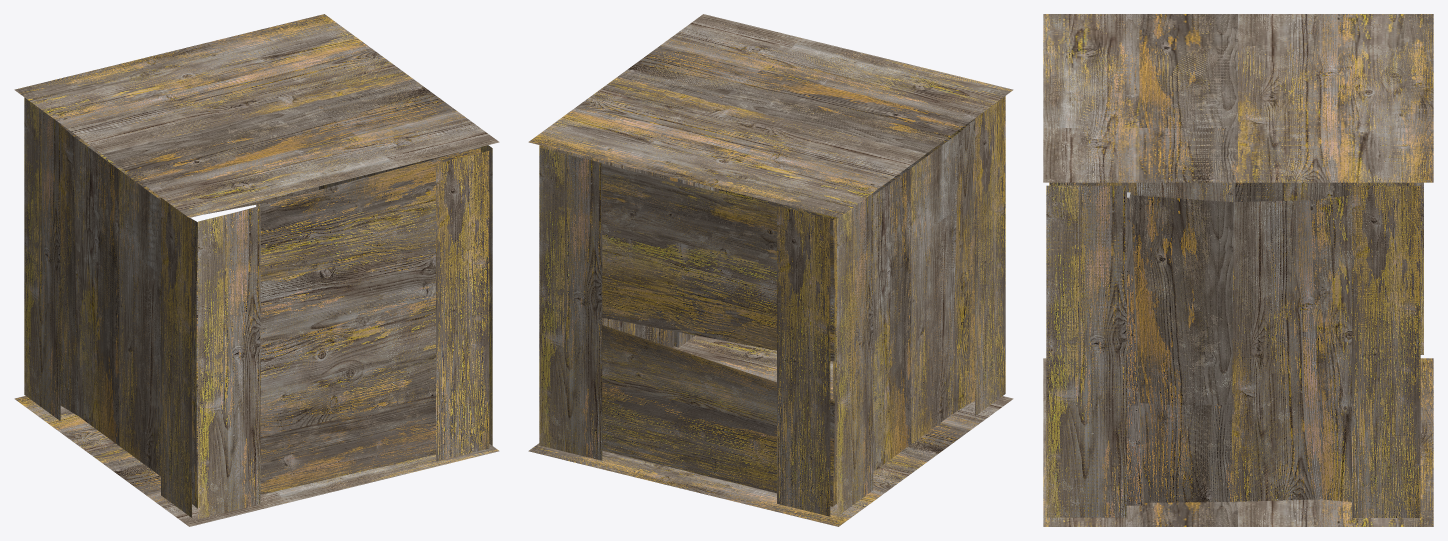
File: Chest2_LOD1.fbx
3 views of the same model, side by side, from view 1: azimuth 30°, elevation 25°; view 2: azimuth 150°, elevation 25°; view 3: azimuth 270°, elevation 25° (orthographic). The views are drawn at different scales.
Parts seen in each view (by area): view 1: polySurface839; view 2: polySurface839; view 3: polySurface839.
Boxes of the visible parts, left/top/right/bottom form: polySurface839: left=14, top=14, right=499, bottom=526; polySurface839: left=528, top=14, right=1013, bottom=526; polySurface839: left=1043, top=14, right=1433, bottom=526.
Bounding box in the file's own units: 1.07 × 1.02 × 1.05.
